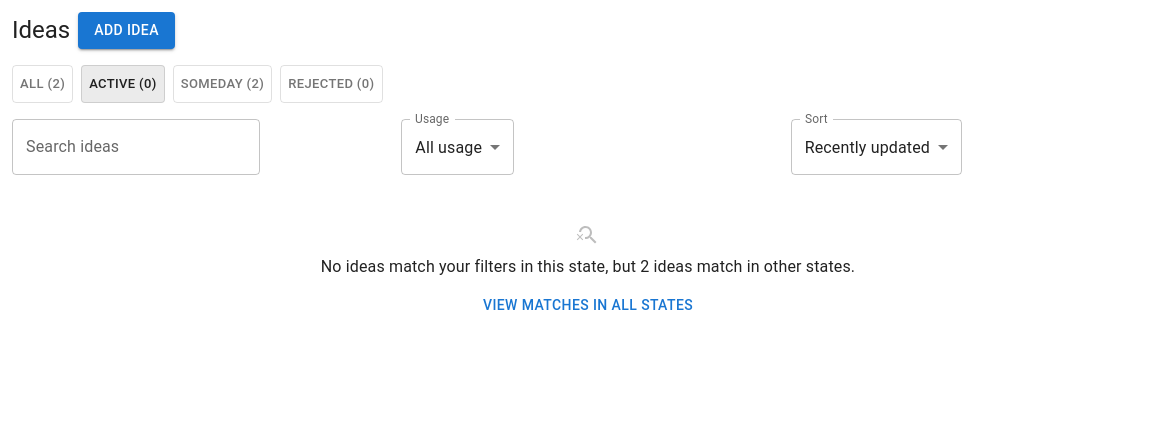
it: Ideas › offers to view matches in other states when a state filter excludes them
Type "hill walk" into the field labelled "Search ideas". click: (136,147)
box: top-left (12, 119), bottom-right (260, 175)
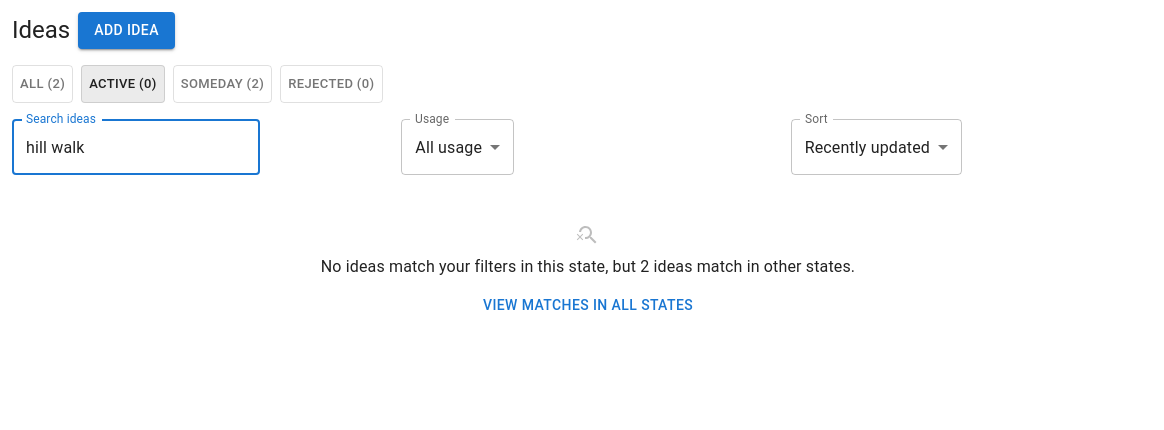
Check: the text "No ideas match your filters in this state, but 2 ideas match in other states." is shown, box top-left (321, 255), bottom-right (855, 279)
Click the button "View matches in all states". click: (588,306)
box: top-left (475, 287), bottom-right (701, 324)
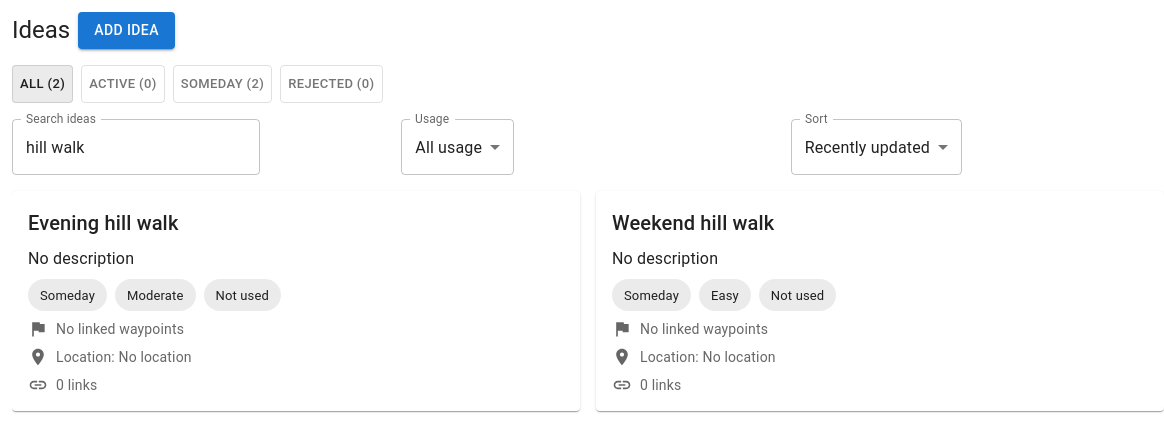
Check: the heading "Weekend hill walk" is shown, box top-left (612, 211), bottom-right (774, 235)
